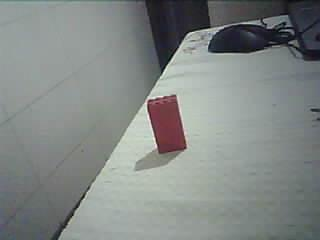lego: (147, 93, 187, 152)
